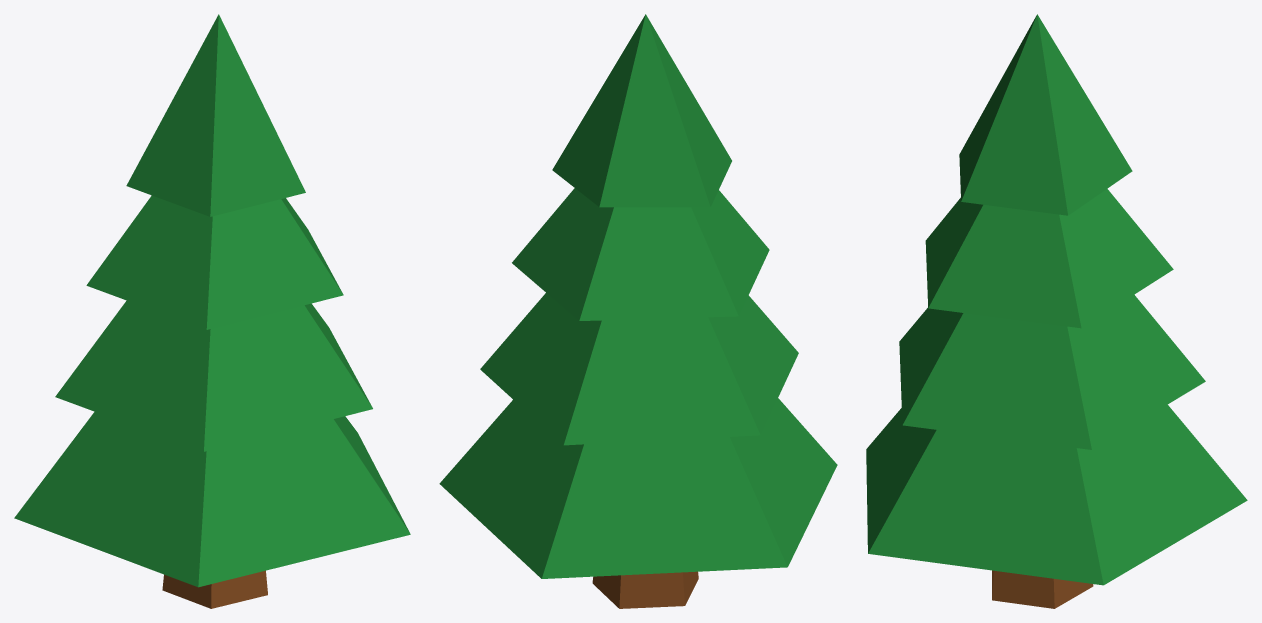
The model's file is tree.glb.
The picture shows the model from 3 angles, left to right: view 1: azimuth 30°, elevation 25°; view 2: azimuth 150°, elevation 25°; view 3: azimuth 270°, elevation 25°; orthographic projection.
Parts seen in each view (by area): view 1: mesh; view 2: mesh; view 3: mesh.
Boxes of the visible parts, box(x1,y1,x2,y2) form: mesh: box(14, 14, 410, 608); mesh: box(439, 14, 837, 608); mesh: box(866, 14, 1247, 608).
Bounding box in the file's own units: 3 × 4.73 × 2.86.
